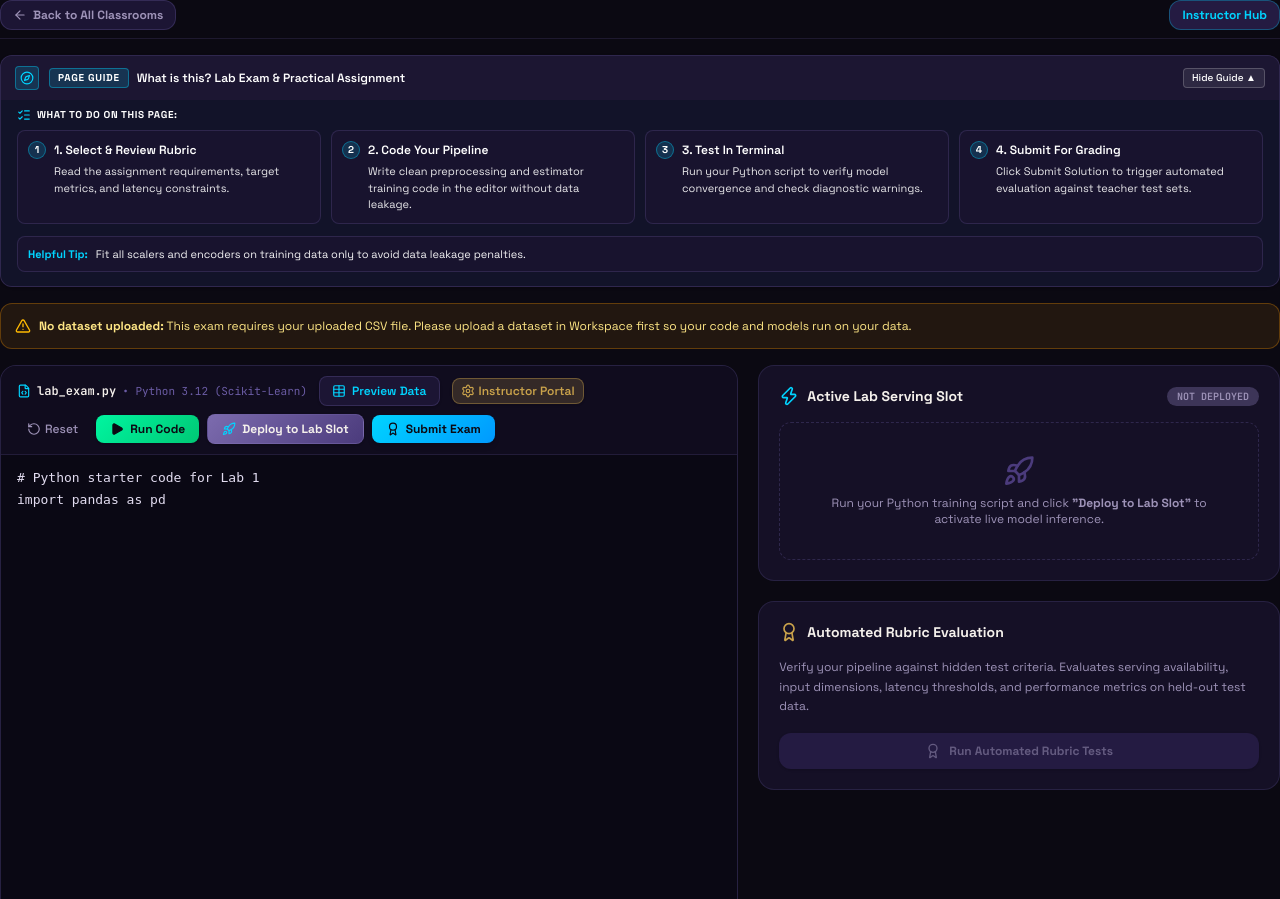
Test: University Lab Exam ClassroomHub › handles in-place singleton deployment update with zero duplicates
// Click deploy
What coordinates should you click on to do the following:
click the button titled "Deploy newly trained model to active lab slot"
I would click on:
 (286, 429)
Its box is [207,414,364,444].
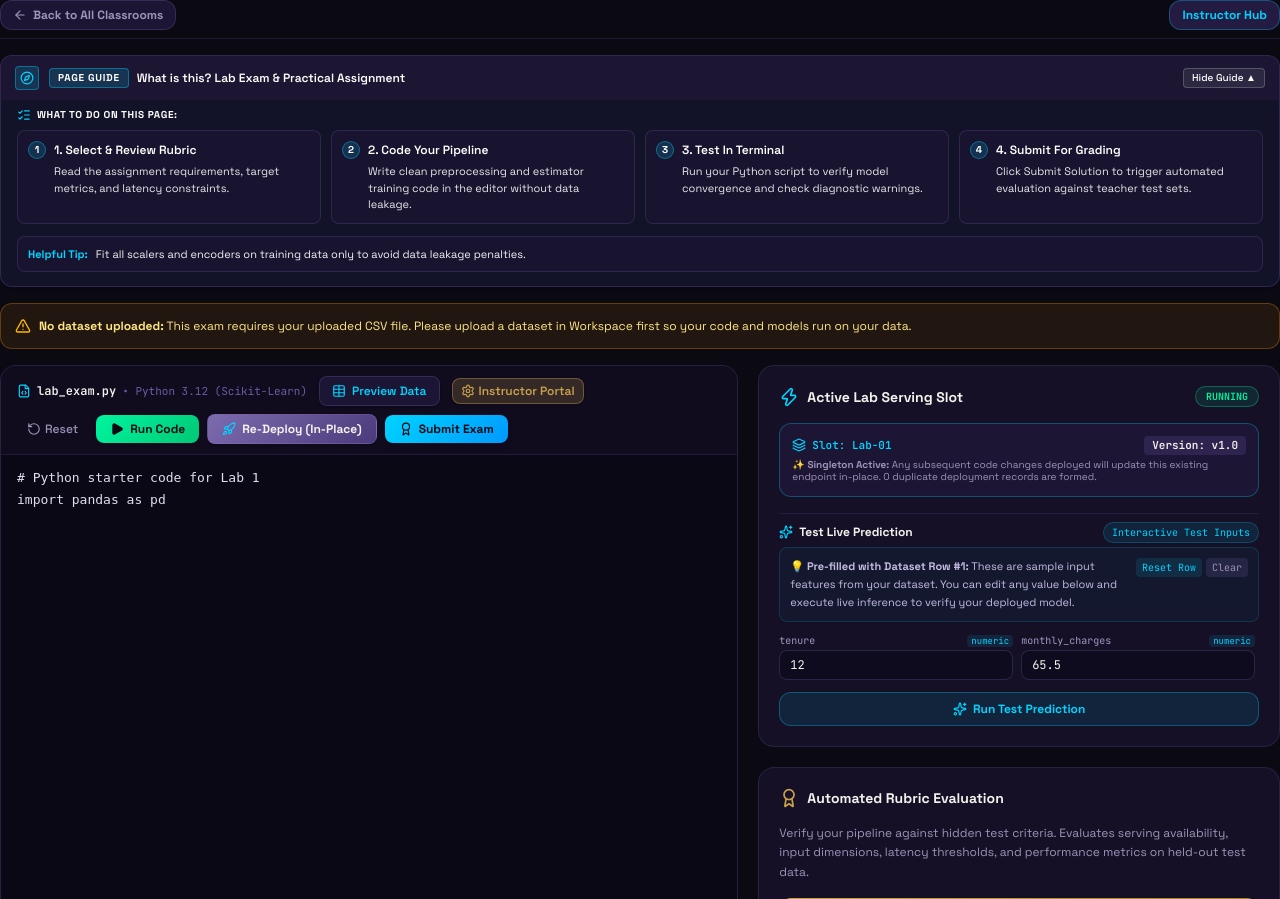
Expected: the text "Slot: Lab-01" is shown, [792,438,892,453]
Expected: the text "0 duplicate deployment records are formed" is shown, [792,458,1208,483]
Expected: the text "Version: v1.0" is shown, [1144,436,1246,455]
What coordinates should you click on to do the following:
click the button titled "Re-deploy updated model in-place"
I would click on:
 (292, 429)
Its box is [207,414,377,444].
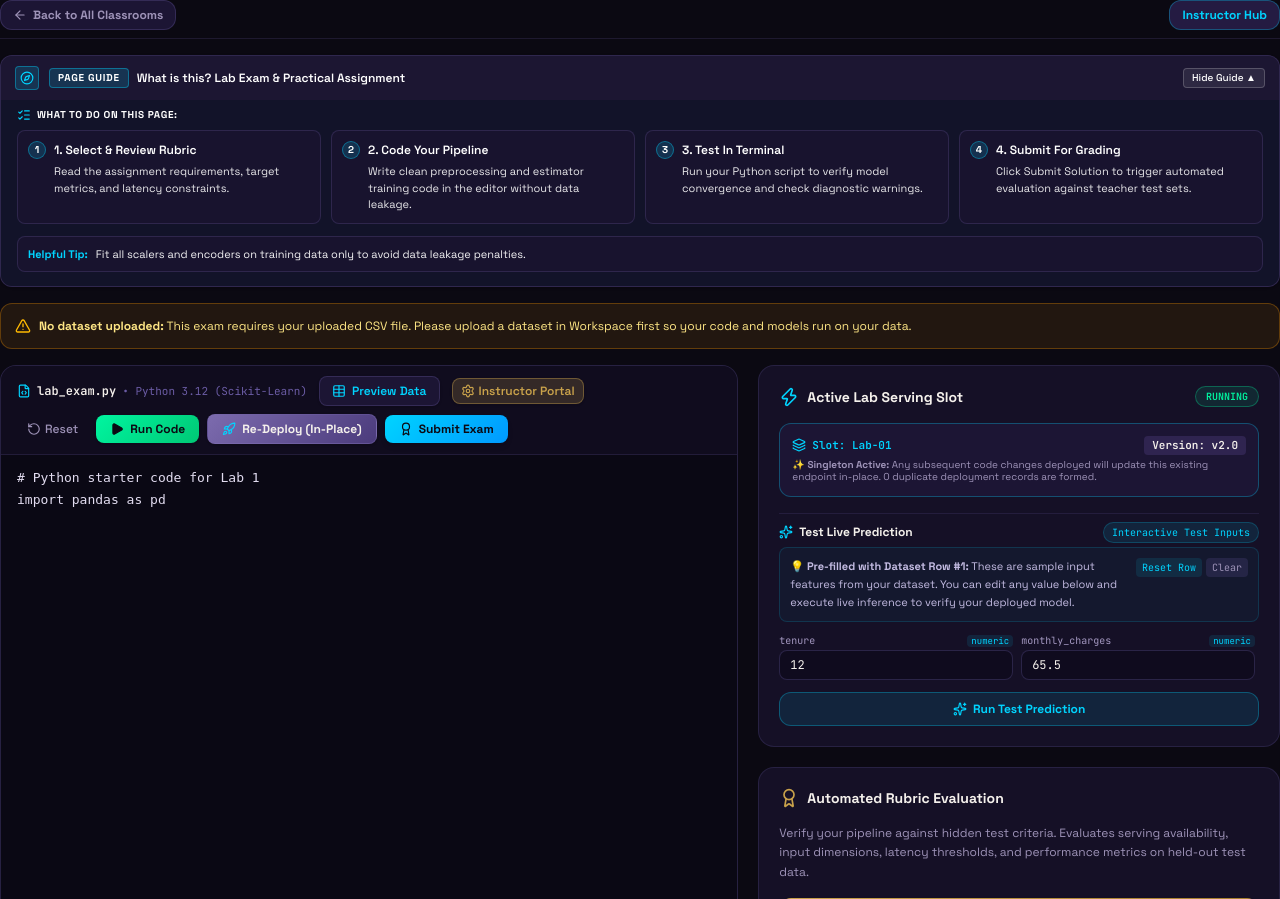
Expected: the text "Version: v2.0" is shown, [1144,436,1246,455]
